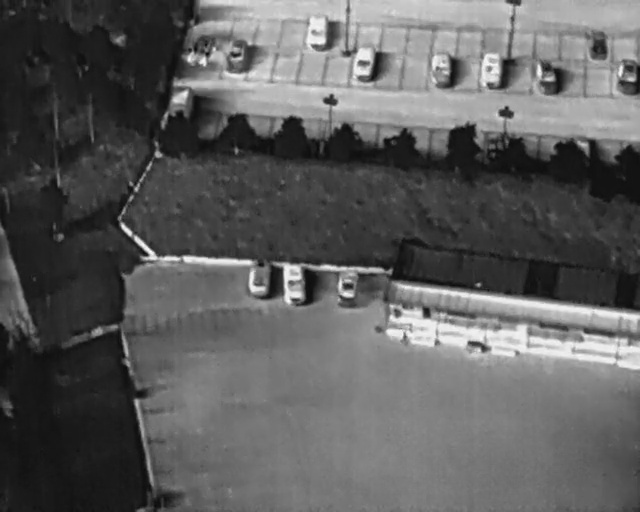Car: (185, 30, 217, 69), (334, 267, 361, 310), (350, 42, 376, 83), (283, 262, 306, 306), (225, 37, 251, 75), (247, 257, 271, 297), (615, 60, 639, 99), (535, 56, 557, 97), (482, 50, 502, 91), (430, 51, 451, 88), (306, 13, 325, 51), (588, 26, 608, 61)
